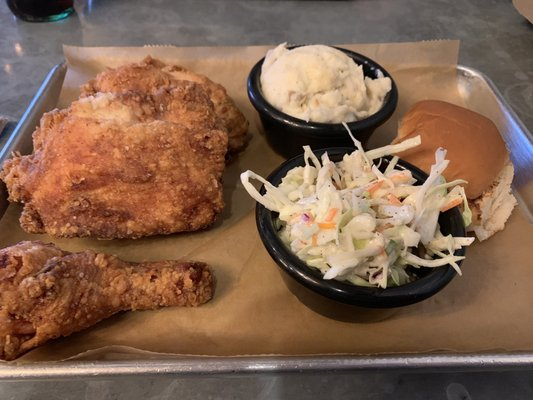pizza: (5, 0, 75, 25)
sushi: (240, 121, 492, 313), (247, 43, 399, 157)
